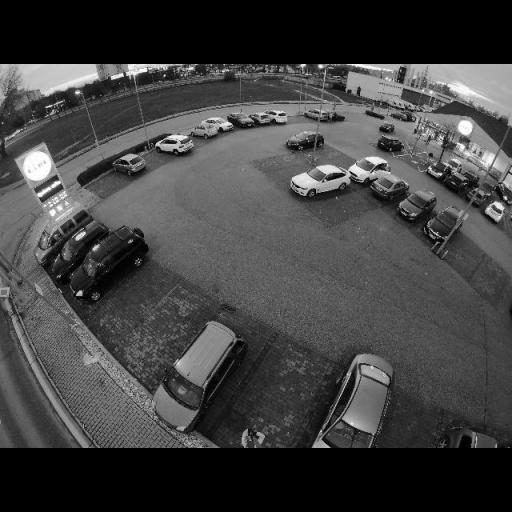busy: (156, 313, 257, 437), (315, 348, 405, 444), (71, 226, 148, 296), (44, 224, 108, 282), (23, 204, 89, 260), (288, 164, 348, 199), (429, 425, 510, 447), (422, 206, 466, 242), (396, 188, 440, 222), (368, 171, 411, 202), (348, 157, 388, 182), (154, 134, 196, 156), (112, 153, 148, 175), (283, 133, 323, 152), (466, 184, 498, 206), (189, 122, 224, 140), (446, 173, 474, 192), (484, 200, 506, 224), (254, 111, 288, 126), (426, 160, 452, 179), (376, 136, 406, 152), (202, 118, 236, 132), (227, 112, 255, 128), (304, 107, 336, 120), (494, 184, 510, 206), (250, 113, 274, 127), (378, 123, 396, 133), (393, 112, 410, 122)
free: (240, 367, 316, 423), (147, 304, 197, 342), (382, 417, 436, 447), (473, 262, 503, 301), (116, 282, 158, 308), (451, 238, 480, 272), (330, 196, 364, 216), (270, 152, 296, 168), (281, 164, 311, 177), (99, 177, 125, 191), (322, 154, 347, 168), (148, 154, 166, 164)
